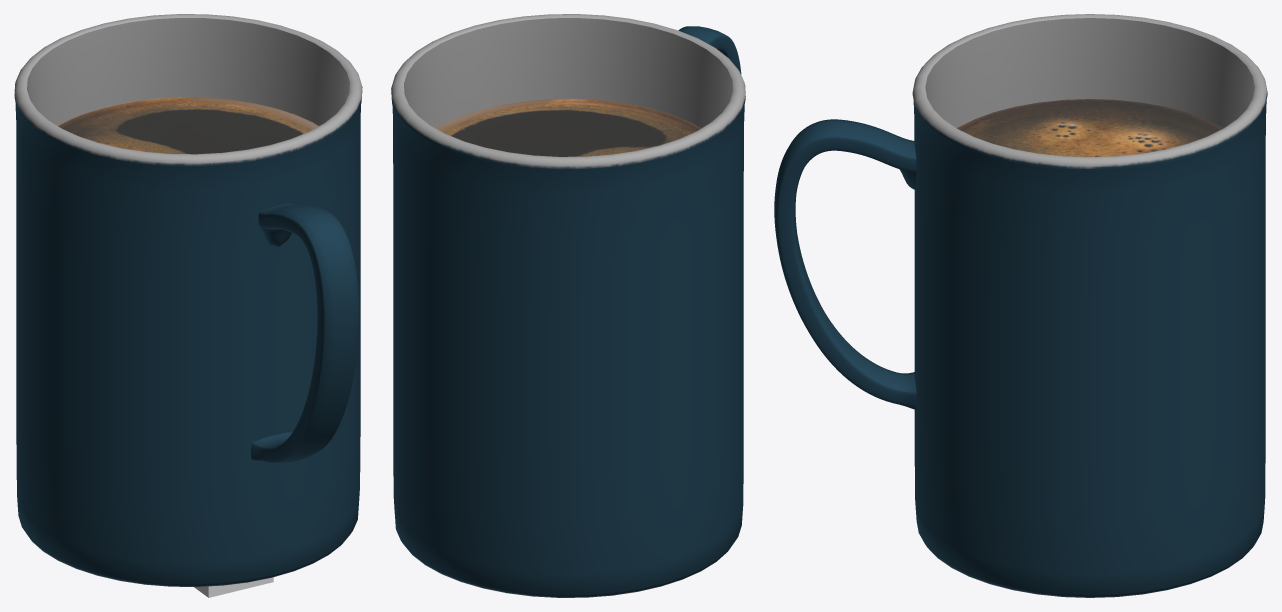
Rendered from mug2.glb.
3 views of the same model, side by side, from view 1: azimuth 30°, elevation 25°; view 2: azimuth 150°, elevation 25°; view 3: azimuth 270°, elevation 25° (orthographic).
Parts seen in each view (by area): view 1: CoffeeMug, Cube; view 2: CoffeeMug; view 3: CoffeeMug.
Part boxes in pixels (x1,y1,x2,y2): CoffeeMug: (14, 14, 362, 586); Cube: (194, 577, 273, 597); CoffeeMug: (391, 14, 745, 597); CoffeeMug: (774, 14, 1267, 597).
Bounding box in the file's own units: 9.3 × 13.73 × 12.92.
2 materials, 1 textured.
